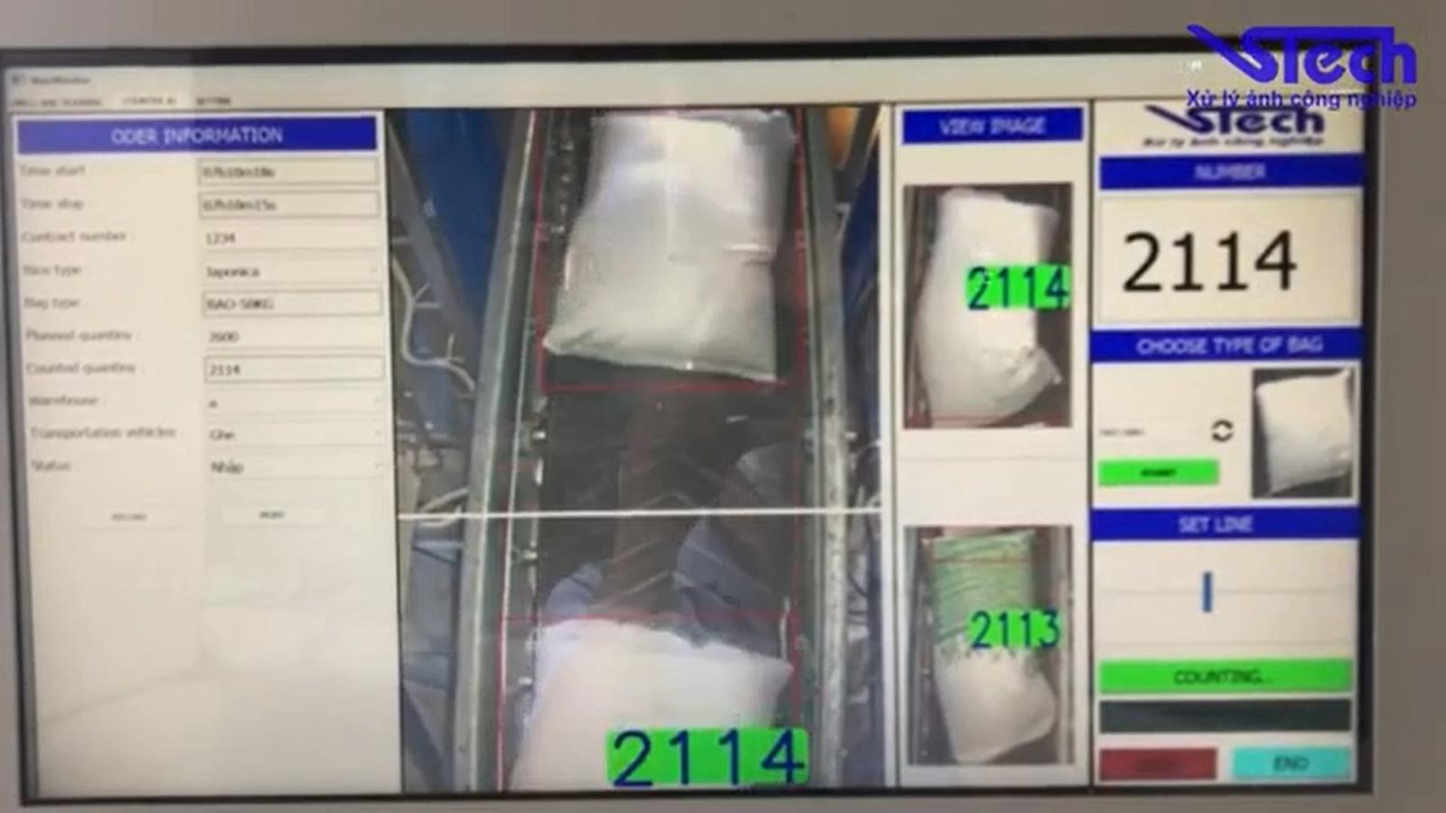rice-bag: (542, 107, 798, 383), (509, 620, 791, 790), (914, 189, 1057, 422), (929, 531, 1056, 763)
